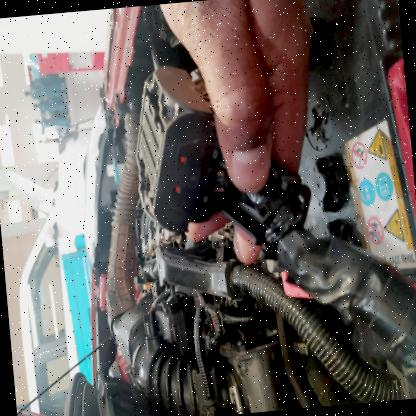Connector: (123, 56, 212, 242)
